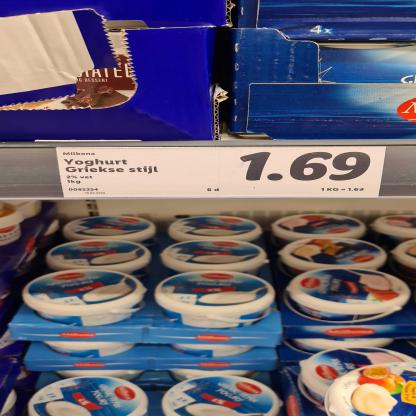prtg: (56, 147, 388, 198)
